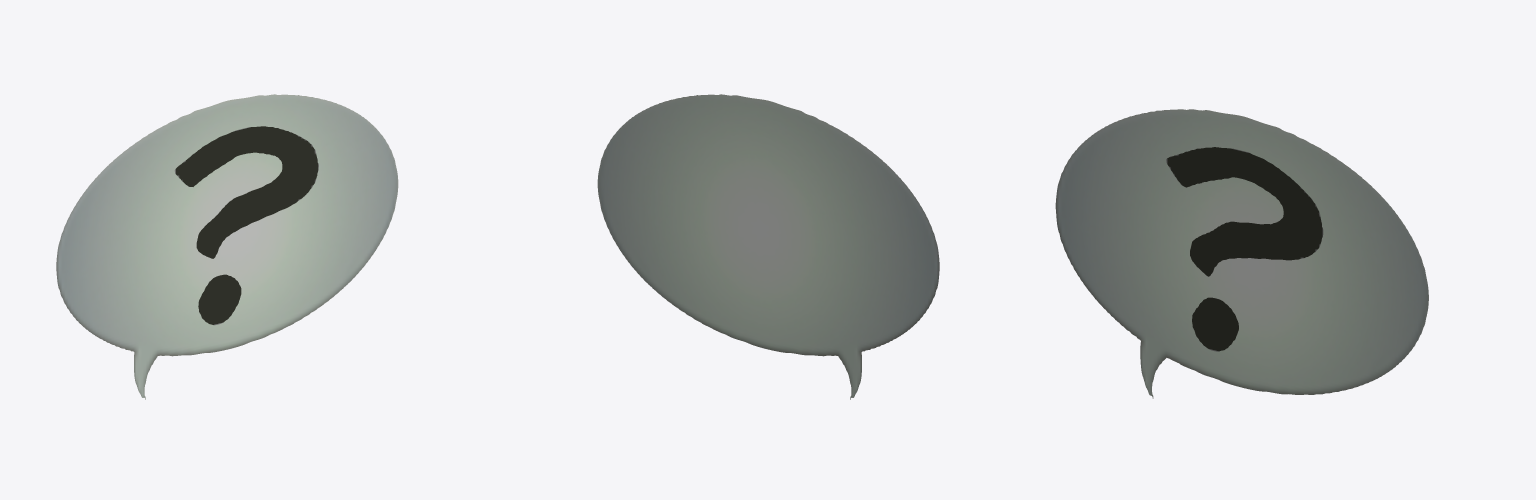
Rendered from Exclamation Baloon.FBX.
The picture shows the model from 3 angles, left to right: view 1: azimuth 30°, elevation 25°; view 2: azimuth 150°, elevation 25°; view 3: azimuth 330°, elevation 25°; orthographic projection. The views are drawn at different scales.
Visible parts, largest first — view 1: Exclamation Baloon; view 2: Exclamation Baloon; view 3: Exclamation Baloon.
Boxes of the visible parts, x1=… form: Exclamation Baloon: x1=56, y1=94, x2=398, y2=399; Exclamation Baloon: x1=597, y1=94, x2=939, y2=399; Exclamation Baloon: x1=1055, y1=109, x2=1428, y2=398.
Bounding box in the file's own units: 118 × 3.75 × 90.37.
